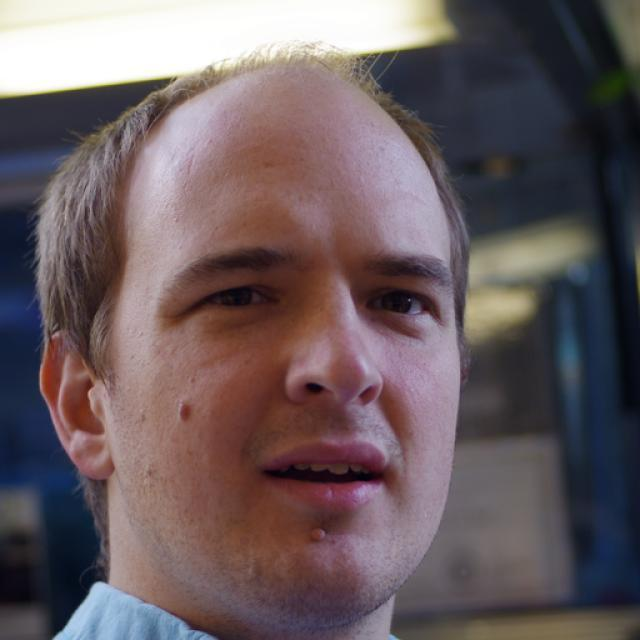0_rostro_limpio: (39, 55, 466, 623)
